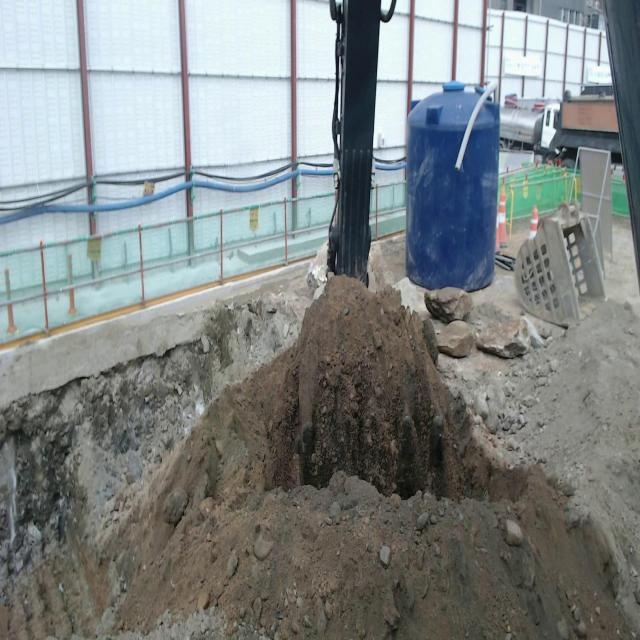red-sand: (0, 352, 630, 639), (296, 276, 436, 447)
stone: (476, 315, 543, 358), (424, 287, 472, 323), (437, 320, 475, 358)
white-sand: (518, 300, 640, 572)
